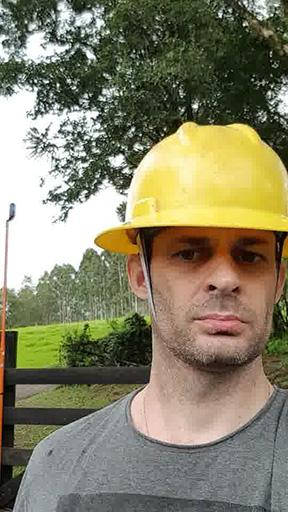Vara_Manobra: (1, 222, 11, 449)
